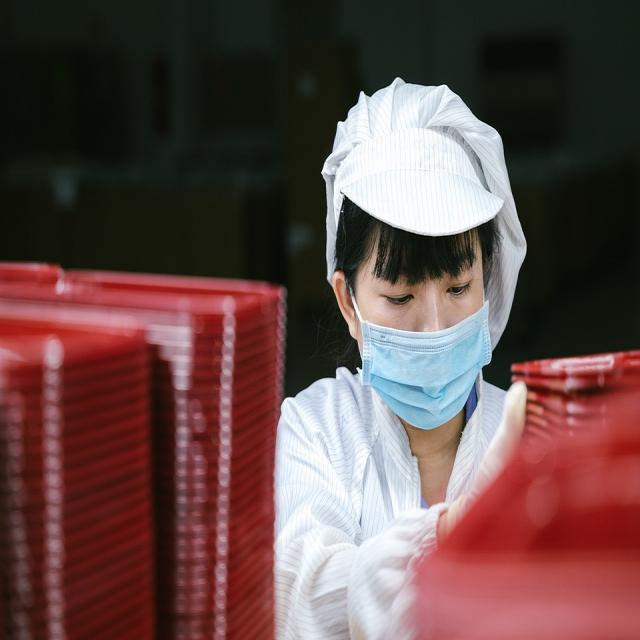1_mascarilla: (360, 310, 490, 430)
